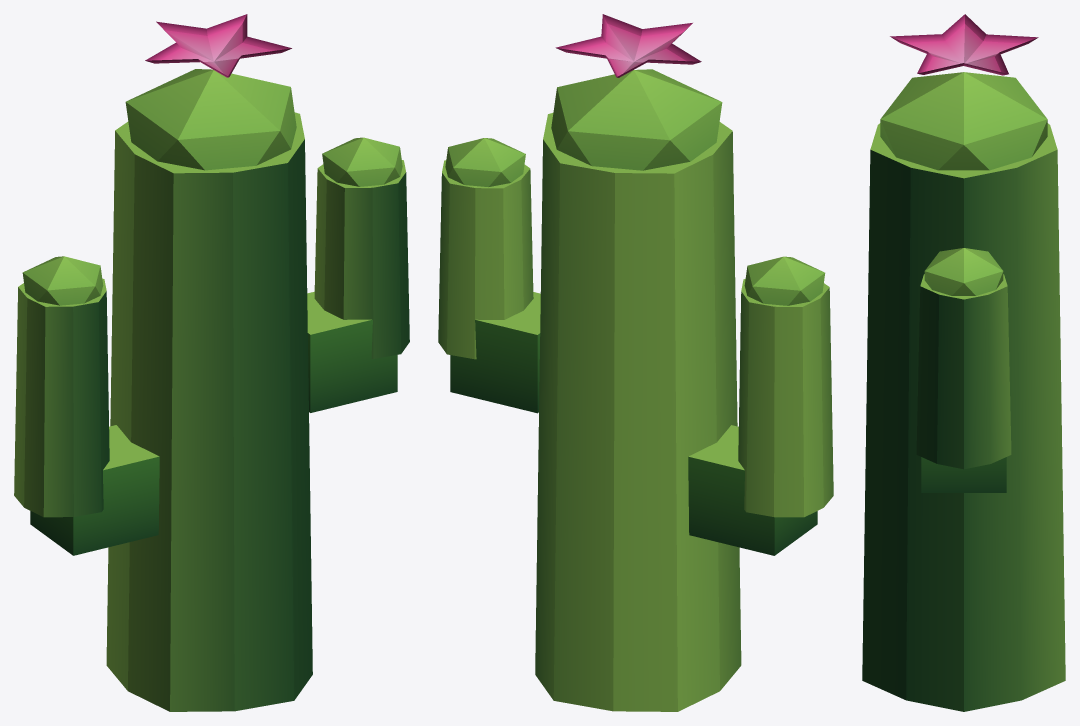
The model's file is cel_cactus.glb.
The picture shows the model from 3 angles, left to right: view 1: azimuth 30°, elevation 25°; view 2: azimuth 150°, elevation 25°; view 3: azimuth 270°, elevation 25°; orthographic projection.
Visible parts, largest first — view 1: cactus; view 2: cactus; view 3: cactus.
Part boxes in pixels (x1,y1,x2,y2): cactus: (14, 14, 409, 711); cactus: (438, 14, 833, 711); cactus: (862, 14, 1065, 711).
Size of the model in its own units: 0.6144 by 0.9586 by 0.2853.
